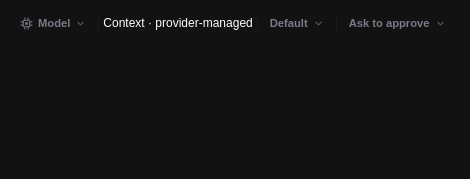
Scenario: ComposerControls — Full access is gated at launch › marks the row as restarting so the cost is visible before the click
Click the button "Ask to approve".
click(397, 23)  # box [341, 12, 454, 34]
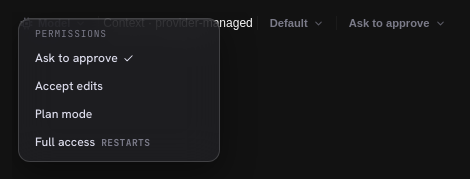
Result: the text "restarts" is shown at [101, 136, 150, 148]
